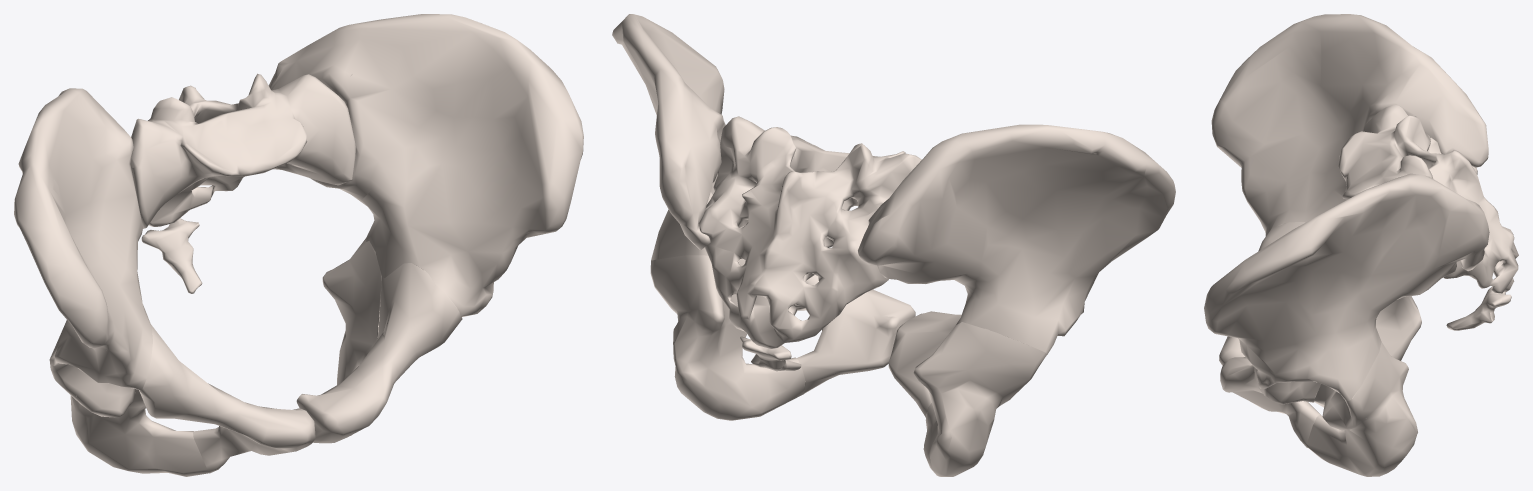
File: pelvis.glb
The picture shows the model from 3 angles, left to right: view 1: azimuth 30°, elevation 25°; view 2: azimuth 150°, elevation 25°; view 3: azimuth 270°, elevation 25°; orthographic projection. The views are drawn at different scales.
Parts seen in each view (by area): view 1: VH_F_ilium_compact_bone_L, VH_F_ilium_compact_bone_R, VH_F_sacrum, VH_F_pubis_compact_bone_L, VH_F_pubis_compact_bone_R, VH_F_ischium_compact_bone_R, VH_F_ischium_compact_bone_L, VH_F_coccyx; view 2: VH_F_ilium_compact_bone_R, VH_F_sacrum, VH_F_ilium_compact_bone_L, VH_F_ischium_compact_bone_L, VH_F_ischium_compact_bone_R, VH_F_pubis_compact_bone_L, VH_F_pubis_compact_bone_R, VH_F_coccyx; view 3: VH_F_ilium_compact_bone_L, VH_F_ilium_compact_bone_R, VH_F_sacrum, VH_F_ischium_compact_bone_L, VH_F_pubis_compact_bone_L, VH_F_ischium_compact_bone_R, VH_F_coccyx, VH_F_pubis_compact_bone_R.
Part boxes in pixels (x1=…): VH_F_ilium_compact_bone_L: x1=268, y1=14, x2=583, y2=317; VH_F_ilium_compact_bone_R: x1=14, y1=88, x2=152, y2=390; VH_F_sacrum: x1=130, y1=73, x2=355, y2=228; VH_F_pubis_compact_bone_L: x1=296, y1=263, x2=462, y2=443; VH_F_pubis_compact_bone_R: x1=139, y1=324, x2=315, y2=473; VH_F_ischium_compact_bone_R: x1=50, y1=363, x2=208, y2=476; VH_F_ischium_compact_bone_L: x1=322, y1=238, x2=381, y2=435; VH_F_coccyx: x1=141, y1=218, x2=202, y2=293; VH_F_ilium_compact_bone_R: x1=858, y1=124, x2=1175, y2=354; VH_F_sacrum: x1=699, y1=116, x2=921, y2=348; VH_F_ilium_compact_bone_L: x1=612, y1=14, x2=744, y2=260; VH_F_ischium_compact_bone_L: x1=650, y1=255, x2=805, y2=420; VH_F_ischium_compact_bone_R: x1=913, y1=322, x2=1047, y2=476; VH_F_pubis_compact_bone_L: x1=737, y1=259, x2=915, y2=393; VH_F_pubis_compact_bone_R: x1=888, y1=311, x2=961, y2=417; VH_F_coccyx: x1=740, y1=336, x2=801, y2=371; VH_F_ilium_compact_bone_L: x1=1204, y1=173, x2=1489, y2=401; VH_F_ilium_compact_bone_R: x1=1211, y1=14, x2=1488, y2=236; VH_F_sacrum: x1=1338, y1=104, x2=1518, y2=293; VH_F_ischium_compact_bone_L: x1=1306, y1=342, x2=1417, y2=476; VH_F_pubis_compact_bone_L: x1=1220, y1=357, x2=1320, y2=447; VH_F_ischium_compact_bone_R: x1=1376, y1=296, x2=1421, y2=360; VH_F_coccyx: x1=1446, y1=287, x2=1511, y2=330; VH_F_pubis_compact_bone_R: x1=1219, y1=222, x2=1304, y2=365.
Bounding box in the file's own units: 0.3167 × 0.2113 × 0.1827.
